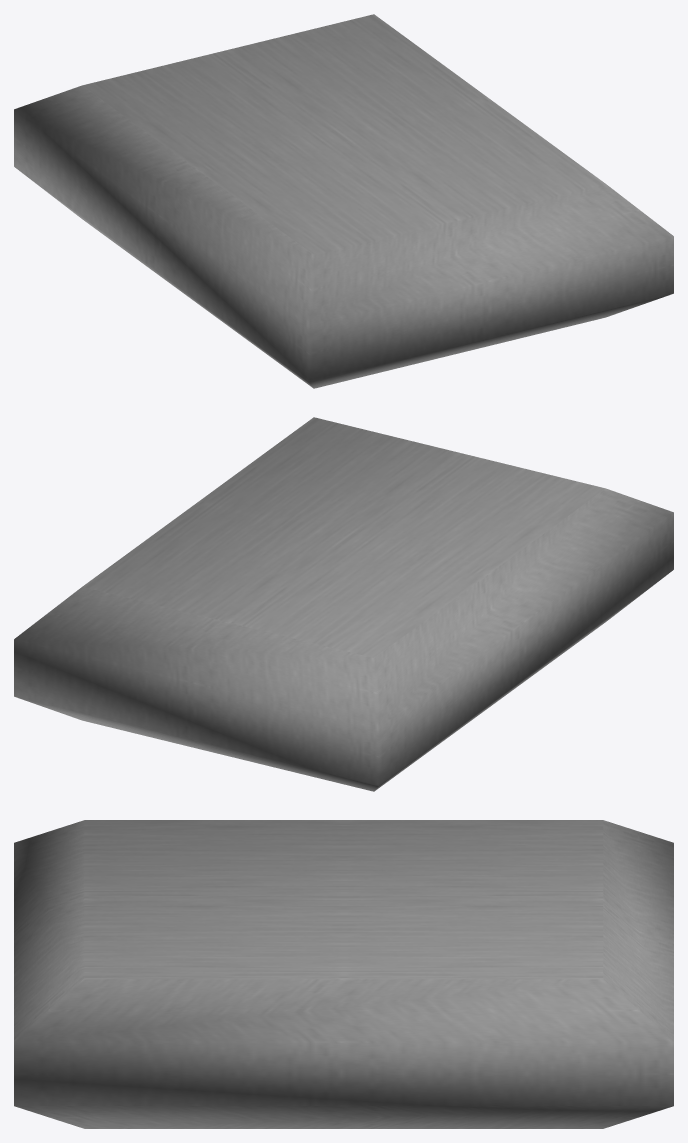
File: small-ingot.glb
The picture shows the model from 3 angles, top to bottom: view 1: azimuth 30°, elevation 25°; view 2: azimuth 150°, elevation 25°; view 3: azimuth 270°, elevation 25°; orthographic projection. The views are drawn at different scales.
Parts seen in each view (by area): view 1: SmallIngot; view 2: SmallIngot; view 3: SmallIngot.
Boxes of the visible parts, box(x1,y1,x2,y2) form: SmallIngot: box(14, 14, 673, 388); SmallIngot: box(14, 417, 673, 791); SmallIngot: box(14, 820, 673, 1128).
Bounding box in the file's own units: 0.2 × 0.07 × 0.28.
1 material, 1 textured.
